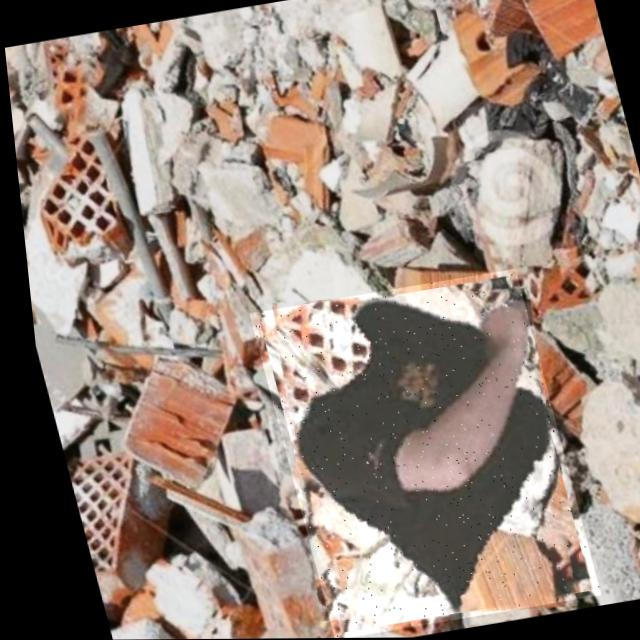Person in Rubble: (239, 268, 591, 639)
